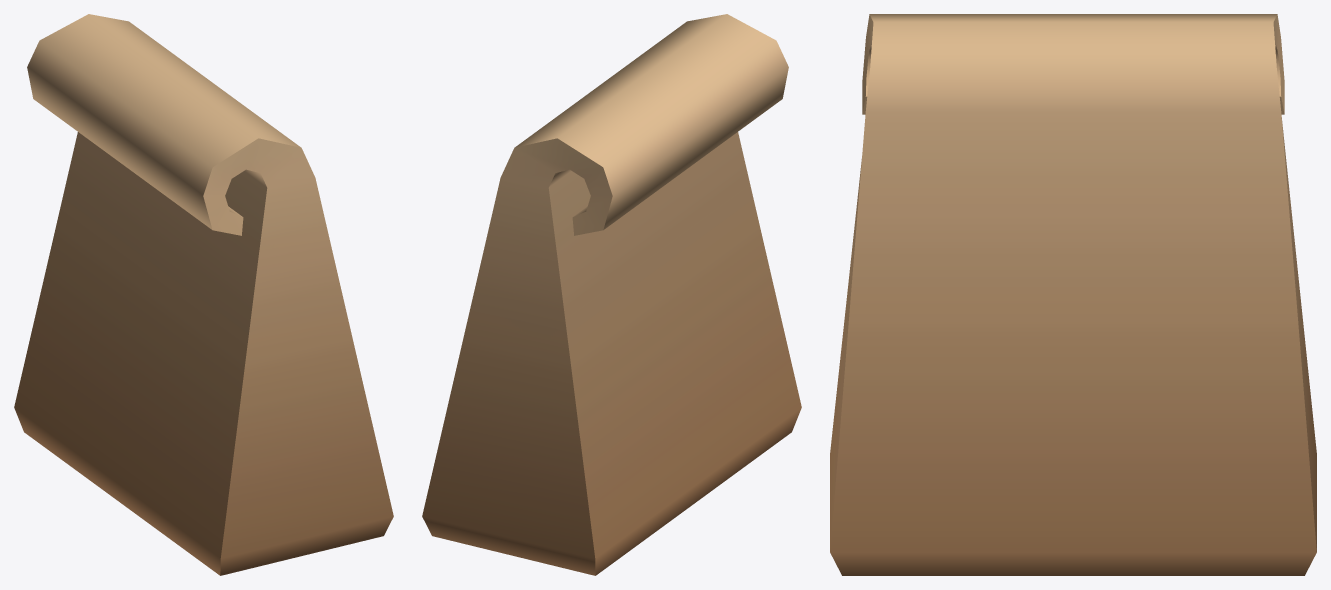
File: BagFood_1_A.fbx
The picture shows the model from 3 angles, left to right: view 1: azimuth 30°, elevation 25°; view 2: azimuth 150°, elevation 25°; view 3: azimuth 270°, elevation 25°; orthographic projection. The views are drawn at different scales.
Visible parts, largest first — view 1: BagFood_1_A; view 2: BagFood_1_A; view 3: BagFood_1_A.
Boxes of the visible parts, x1,y1,x2,y2 form: BagFood_1_A: (14,14,393,575); BagFood_1_A: (422,14,801,575); BagFood_1_A: (830,14,1316,575).
Bounding box in the file's own units: 15.18 × 35.13 × 30.98.
